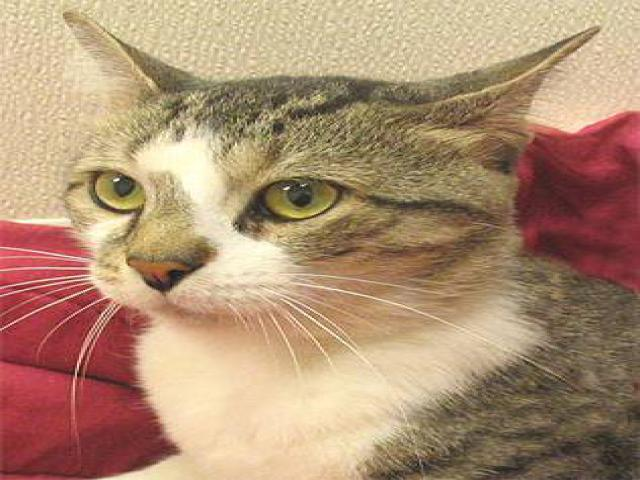cat: (22, 4, 635, 477)
